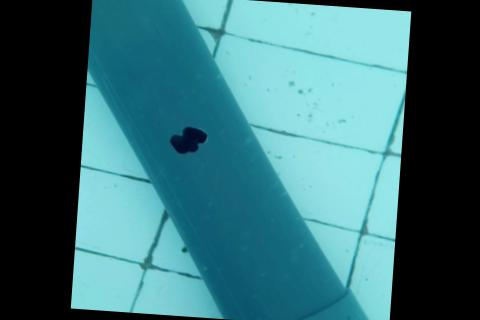kebocoran: (165, 126, 209, 157)
